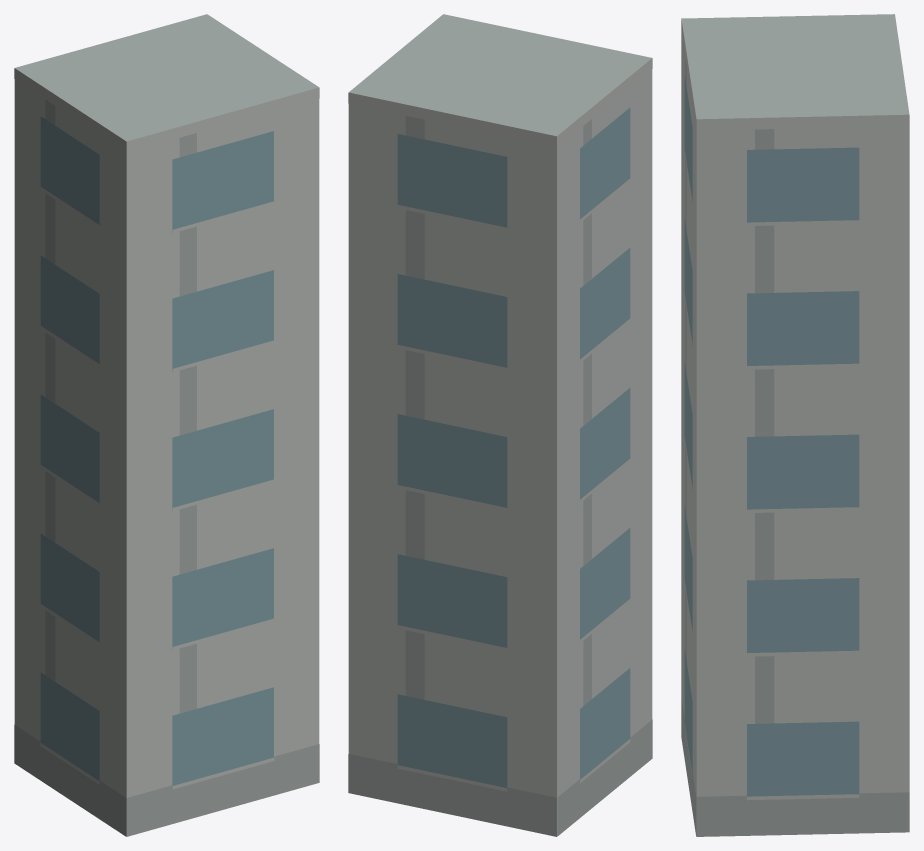
The model's file is survey-upis-32603653.glb.
3 views of the same model, side by side, from view 1: azimuth 30°, elevation 25°; view 2: azimuth 150°, elevation 25°; view 3: azimuth 270°, elevation 25° (orthographic). The views are drawn at different scales.
Parts seen in each view (by area): view 1: survey-upis-32603653.tmp; view 2: survey-upis-32603653.tmp; view 3: survey-upis-32603653.tmp.
Boxes of the visible parts, bbox=[...] form: survey-upis-32603653.tmp: bbox=[14, 14, 319, 836]; survey-upis-32603653.tmp: bbox=[348, 14, 652, 836]; survey-upis-32603653.tmp: bbox=[681, 14, 909, 836].
Size of the model in its own units: 4.81 by 15.25 by 4.4.
